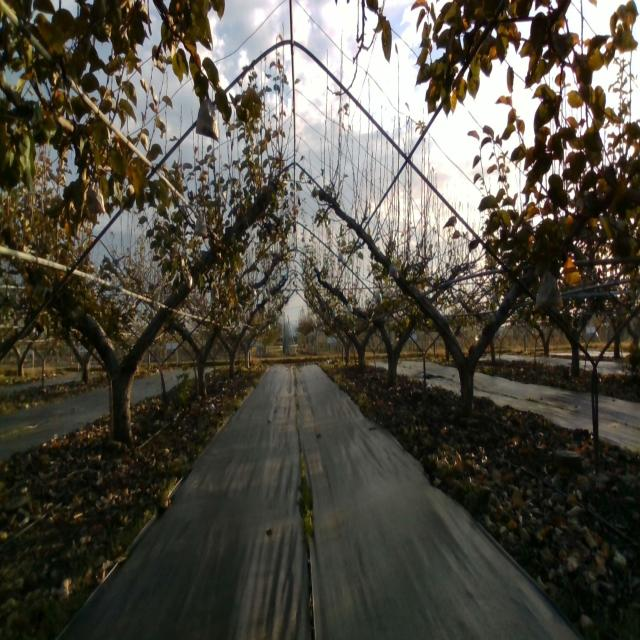pearbags: (536, 271, 564, 312), (196, 98, 218, 142), (86, 180, 105, 215), (193, 212, 208, 238), (389, 259, 399, 279)
